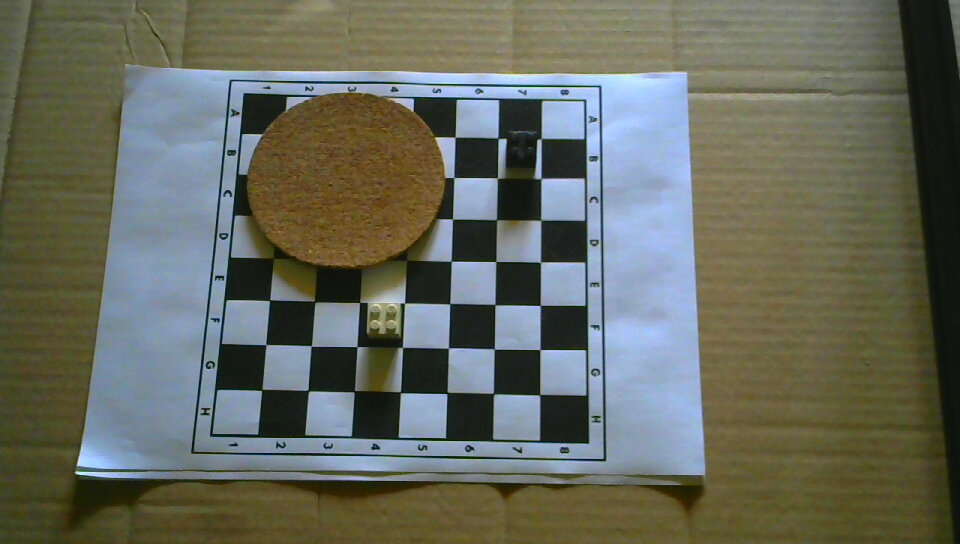bp: (505, 130, 539, 171)
wp: (366, 300, 402, 341)
